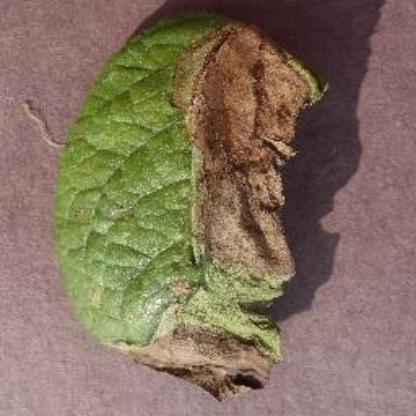Late-Blight: (42, 7, 342, 407)
